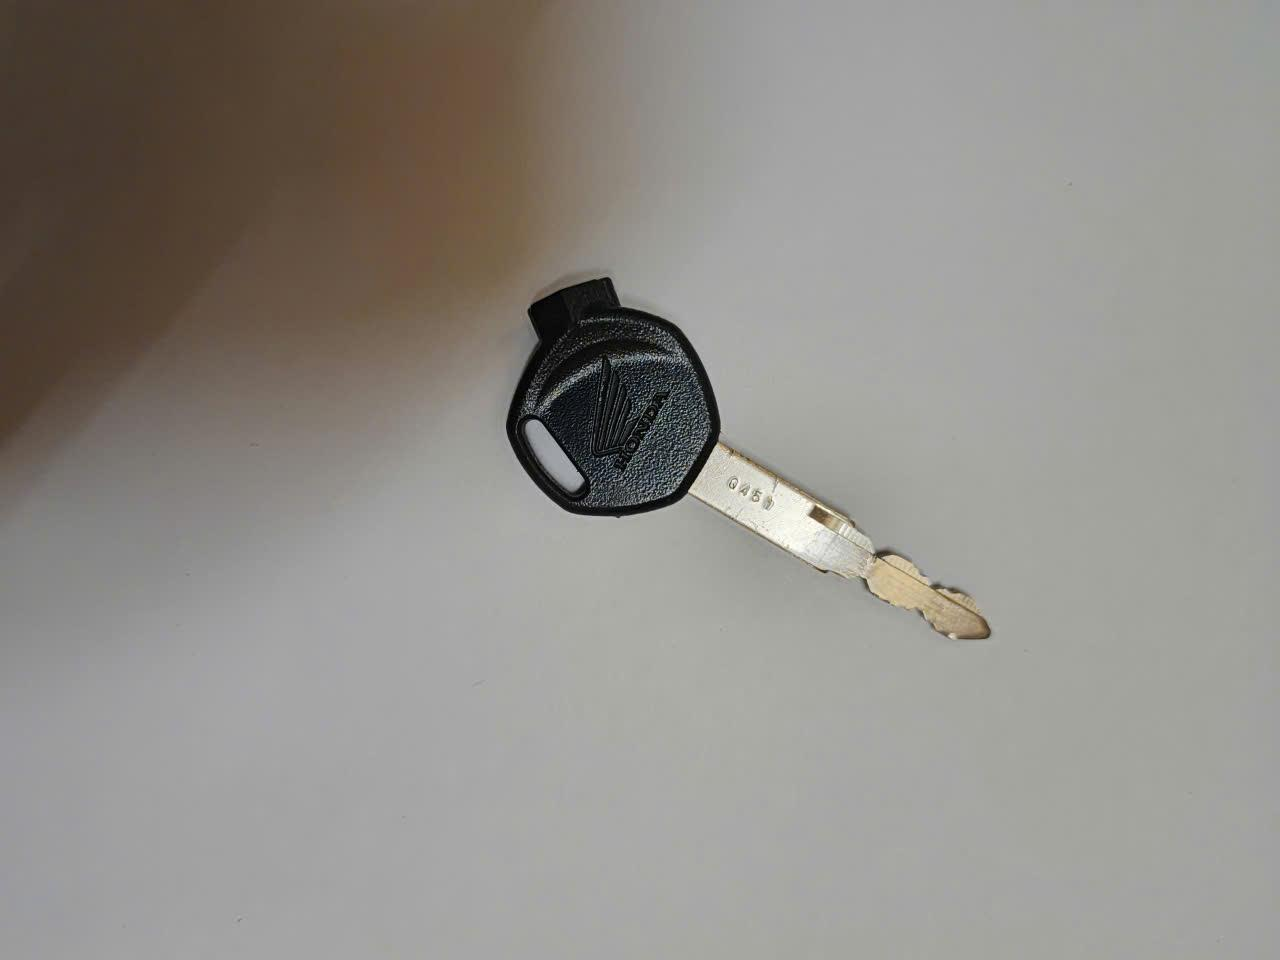Vo co: (504, 278, 994, 639)
